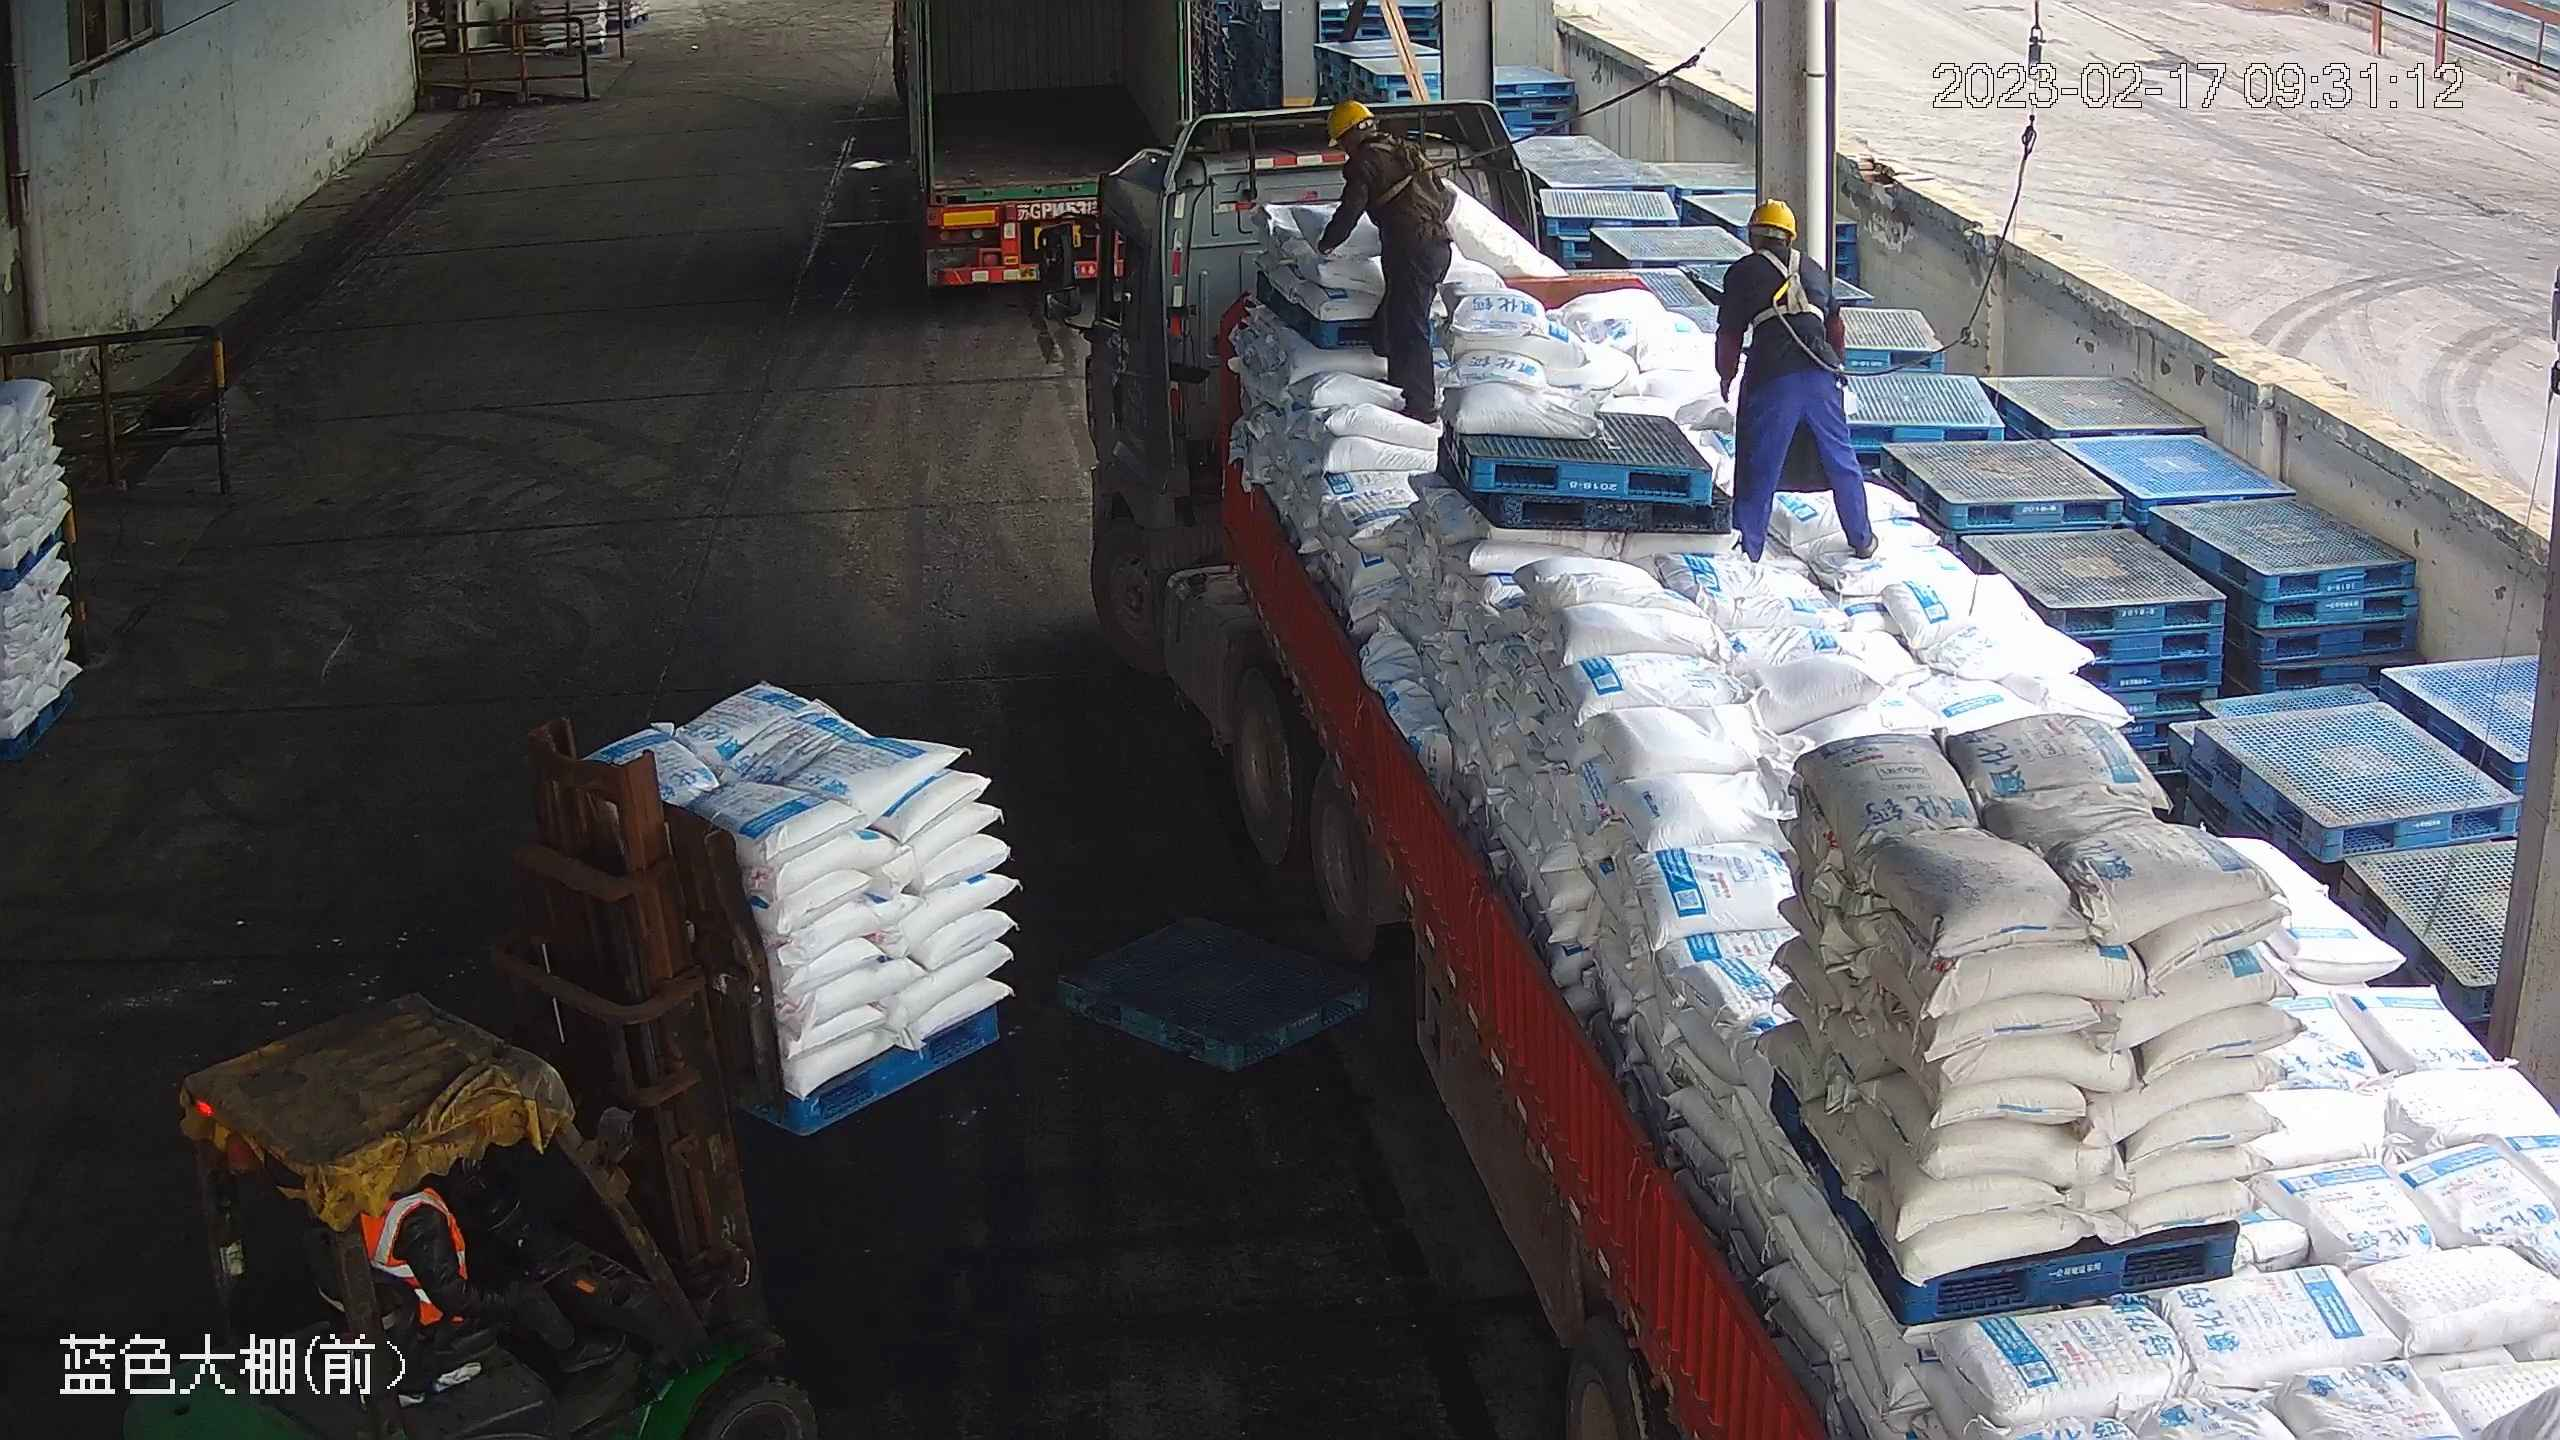belt: (1747, 242, 1849, 328), (1359, 133, 1449, 208)
head: (1715, 199, 1840, 315), (1322, 97, 1427, 208)
helmet: (1327, 99, 1381, 148), (1745, 198, 1799, 241)
people: (1714, 198, 1882, 565), (359, 1179, 623, 1381), (1319, 99, 1468, 425)
truck: (1015, 93, 2560, 1440), (886, 1, 1203, 347)
